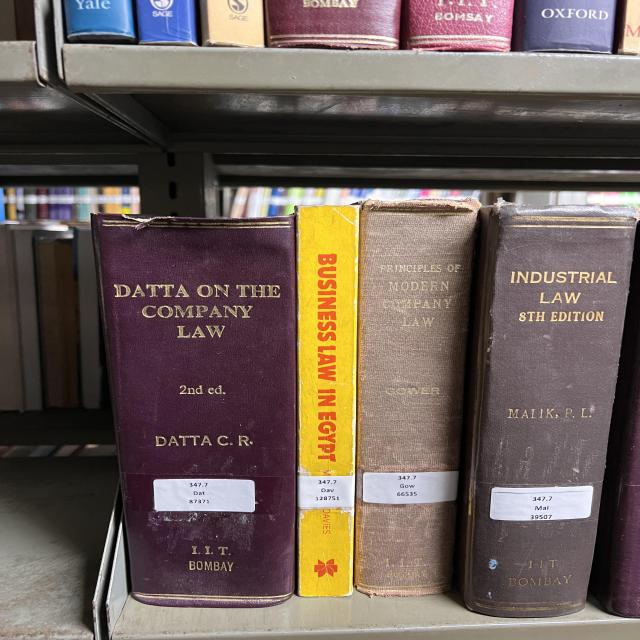Book: (92, 214, 297, 608), (458, 202, 638, 618), (355, 199, 480, 596), (295, 205, 360, 596)
Label: (490, 485, 593, 521), (153, 479, 255, 512), (363, 471, 458, 504), (298, 475, 355, 508)
